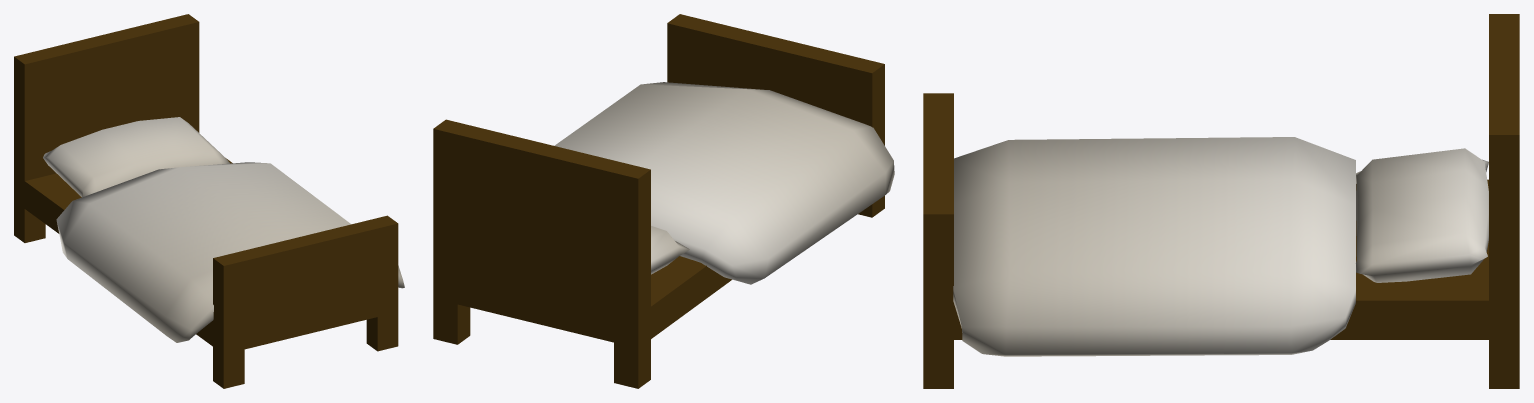
Rendered from bed_single.glb.
3 views of the same model, side by side, from view 1: azimuth 30°, elevation 25°; view 2: azimuth 150°, elevation 25°; view 3: azimuth 270°, elevation 25° (orthographic). The views are drawn at different scales.
Parts seen in each view (by area): view 1: bedframe, duvet, pillow; view 2: bedframe, duvet, pillow; view 3: duvet, bedframe, pillow.
Part boxes in pixels (<box>): bedframe: <box>14,14,398,388</box>; duvet: <box>56,162,404,342</box>; pillow: <box>43,117,230,197</box>; bedframe: <box>433,14,884,388</box>; duvet: <box>554,82,894,284</box>; pillow: <box>651,226,689,274</box>; duvet: <box>953,137,1355,356</box>; bedframe: <box>923,14,1519,388</box>; pillow: <box>1356,148,1488,282</box>.
Bounding box in the file's own units: 1.3 × 0.95 × 2.02.
Materials: 1 (1 with a texture image).
